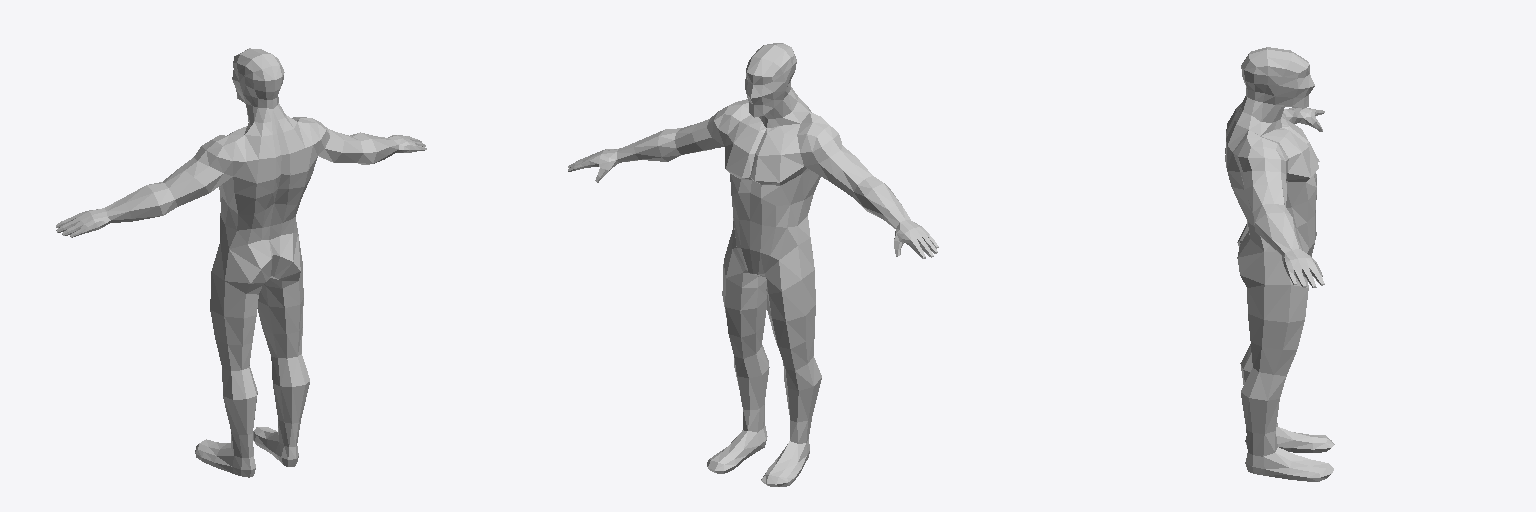
3 renders of one model, left to right at view 1: azimuth 30°, elevation 25°; view 2: azimuth 150°, elevation 25°; view 3: azimuth 270°, elevation 25°, orthographic.
Visible parts, largest first — view 1: LowPoly_BaseMesh_1600Tris_OBJ; view 2: LowPoly_BaseMesh_1600Tris_OBJ; view 3: LowPoly_BaseMesh_1600Tris_OBJ.
Part boxes in pixels (x1,y1,x2,y2): LowPoly_BaseMesh_1600Tris_OBJ: (56, 48, 426, 477); LowPoly_BaseMesh_1600Tris_OBJ: (568, 43, 938, 486); LowPoly_BaseMesh_1600Tris_OBJ: (1225, 47, 1334, 481).
Bounding box in the file's own units: 5.66 × 6.12 × 1.47.